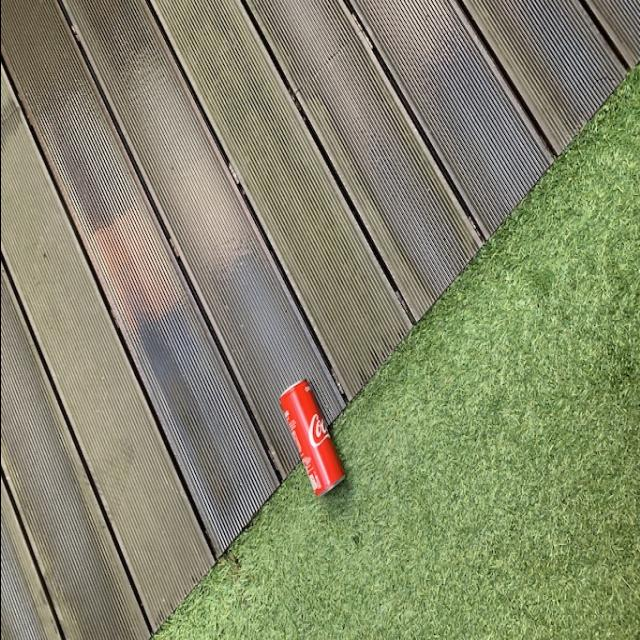litter: (271, 374, 346, 500)
